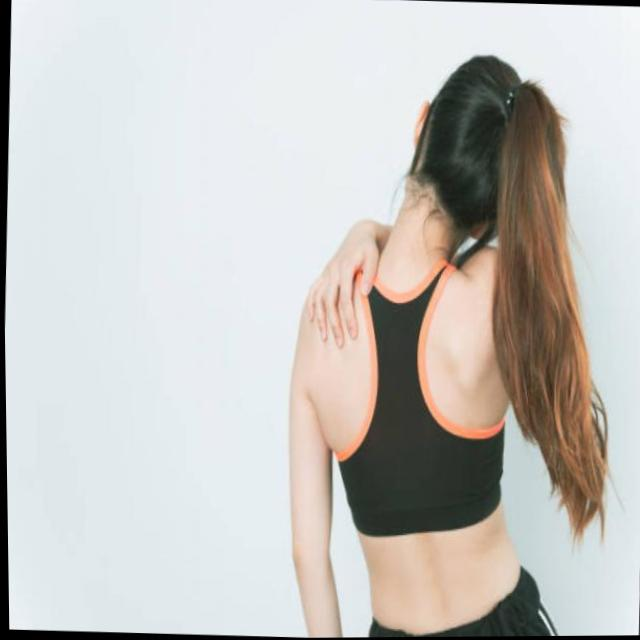no helmet: (365, 42, 530, 276)
